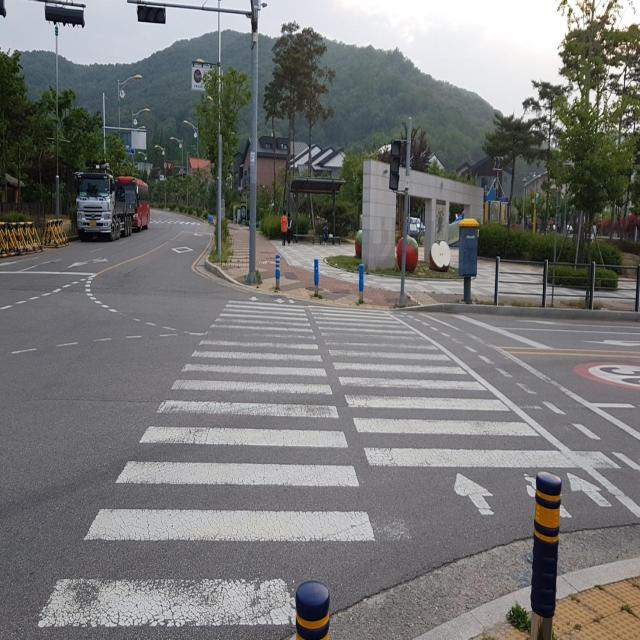횡단보도: (38, 297, 622, 628)
